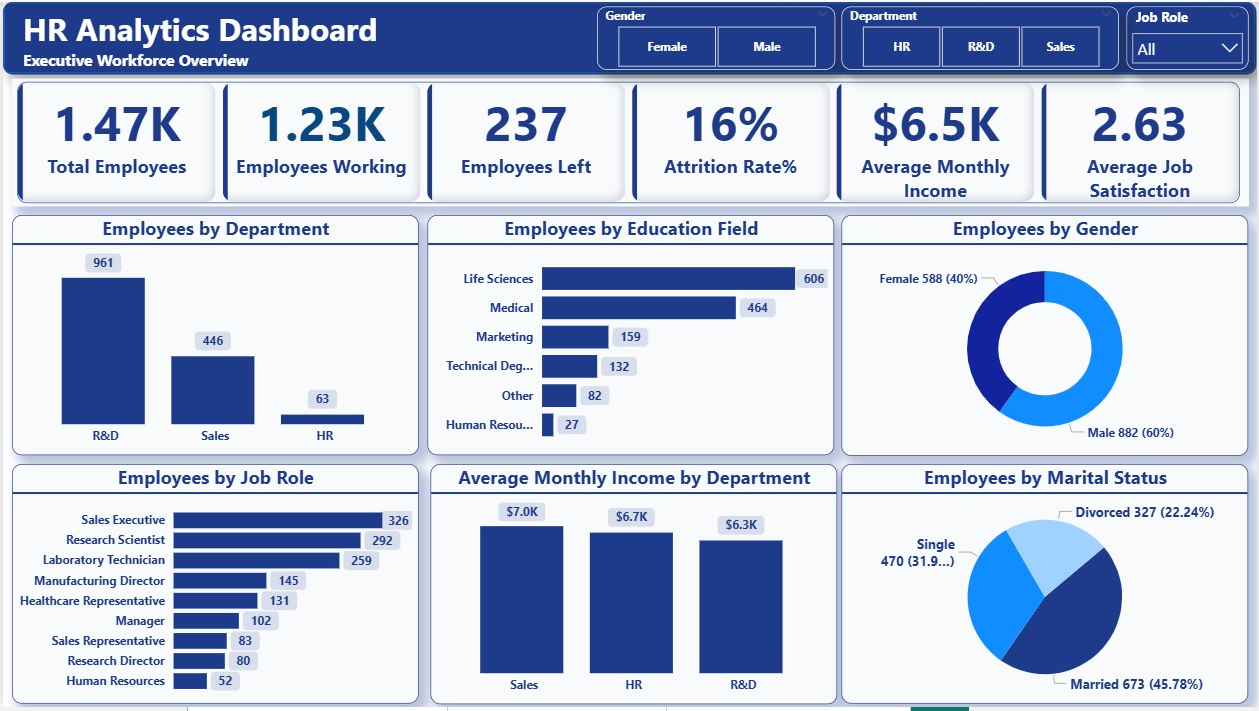

Layout of this report page (visuals, bound fields, positions):
{"tool":"powerbi","page":{"name":"Executive HR Dashboard","canvas":[1280,720],"ordinal":0},"visuals":[{"type":"shape","box":[0,0,1280,74],"z":0},{"type":"textbox","box":[15.4,0,453.8,84.6],"z":1000},{"type":"cardVisual","title":"hh","fields":{"Data":["Meaures_table.Total Employees","Meaures_table.Employees Working","Meaures_table.Employees Left","Meaures_table.Attrition Rate%","Meaures_table.Average Monthly Income","Meaures_table.Average Job Satisfaction"]},"box":[9.2,78.5,1263.1,130.8],"z":2000},{"type":"columnChart","title":"Employees by Department","fields":{"Category":["HR_Data.Department"],"Y":["Meaures_table.Total Employees"]},"box":[9.2,217.5,415,245],"z":3000},{"type":"clusteredBarChart","title":"Employees by Education Field","fields":{"Category":["HR_Data.Education Field"],"Y":["Meaures_table.Total Employees"]},"box":[433.8,217.5,415,245],"z":4000},{"type":"donutChart","title":"Employees by Gender","fields":{"Category":["HR_Data.Gender"],"Y":["Meaures_table.Total Employees"]},"box":[856.9,217.5,415.4,246.2],"z":5000},{"type":"clusteredBarChart","title":"Employees by Job Role","fields":{"Y":["Meaures_table.Total Employees"],"Category":["HR_Data.Job Role"]},"box":[9.2,472.3,415,244.6],"z":6000},{"type":"clusteredColumnChart","fields":{"Y":["Meaures_table.Average Monthly Income"],"Category":["HR_Data.Department"]},"box":[436.9,471.9,415,245],"z":7000},{"type":"pieChart","title":"Employees by Marital Status","fields":{"Y":["Meaures_table.Total Employees"],"Category":["HR_Data.Marital Status"]},"box":[856.9,472.3,415.4,244.6],"z":8000},{"type":"slicer","fields":{"Values":["HR_Data.Gender"]},"box":[606.2,4.6,243.1,64.6],"z":9000},{"type":"slicer","fields":{"Values":["HR_Data.Job Role"]},"box":[1147.7,4.6,124.6,64.6],"z":10000},{"type":"slicer","fields":{"Values":["HR_Data.Department"]},"box":[856.9,4.6,283.1,64.6],"z":11000}]}

Visuals, with their boxes in screenshot pixels (x1, y1, x2, y2), scaled from the page's 1280x720 canvas onto the 1259x711 screenshot:
shape: x1=0, y1=0, x2=1258, y2=73
textbox: x1=15, y1=0, x2=462, y2=84
"hh" cardVisual: x1=9, y1=78, x2=1251, y2=207
"Employees by Department" columnChart: x1=9, y1=215, x2=417, y2=457
"Employees by Education Field" clusteredBarChart: x1=427, y1=215, x2=835, y2=457
"Employees by Gender" donutChart: x1=843, y1=215, x2=1251, y2=458
"Employees by Job Role" clusteredBarChart: x1=9, y1=466, x2=417, y2=708
clusteredColumnChart - Meaures_table.Average Monthly Income x HR_Data.Department: x1=430, y1=466, x2=838, y2=708
"Employees by Marital Status" pieChart: x1=843, y1=466, x2=1251, y2=708
slicer - HR_Data.Gender: x1=596, y1=5, x2=835, y2=68
slicer - HR_Data.Job Role: x1=1129, y1=5, x2=1251, y2=68
slicer - HR_Data.Department: x1=843, y1=5, x2=1121, y2=68
